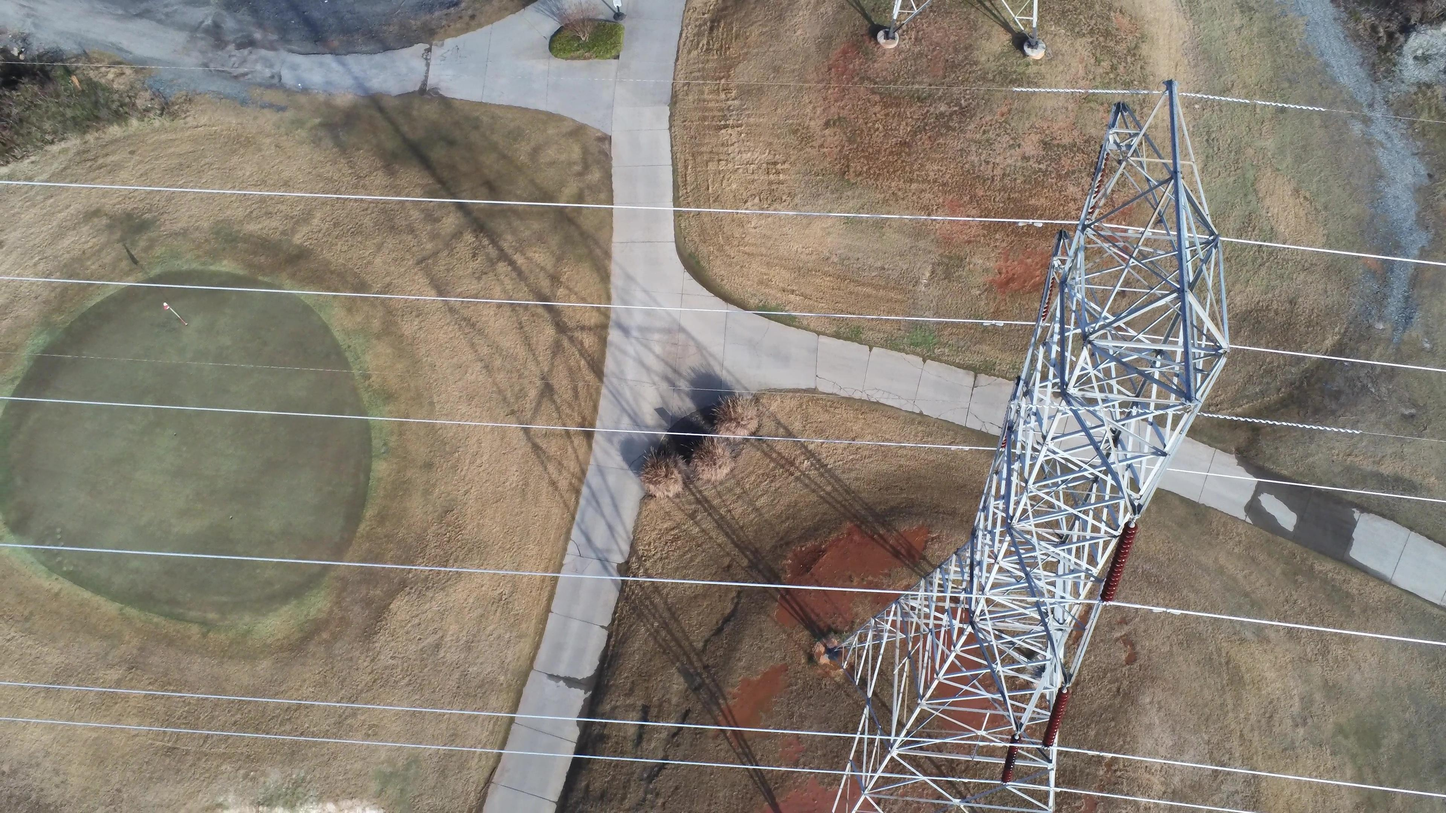power_tower: (830, 79, 1230, 813), (887, 1, 1040, 45)
